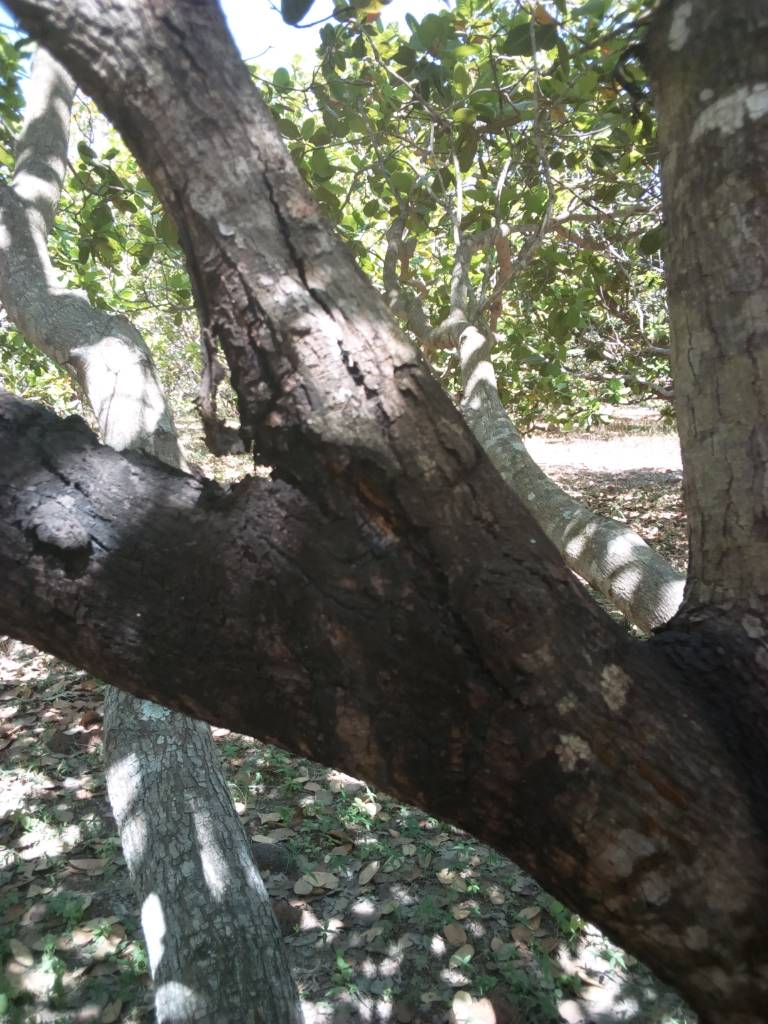Gommose: (7, 428, 515, 785), (655, 617, 768, 757)
